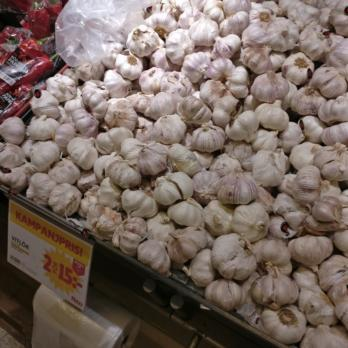Garlic: (155, 1, 348, 271), (39, 72, 153, 266), (204, 274, 348, 343), (0, 112, 30, 190)
